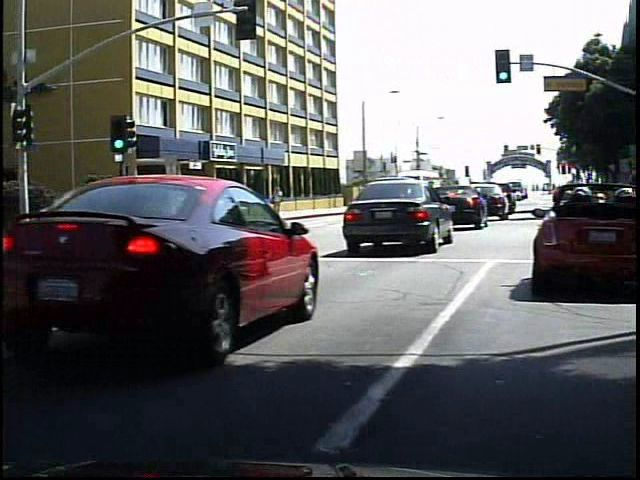person: (266, 181, 283, 214)
